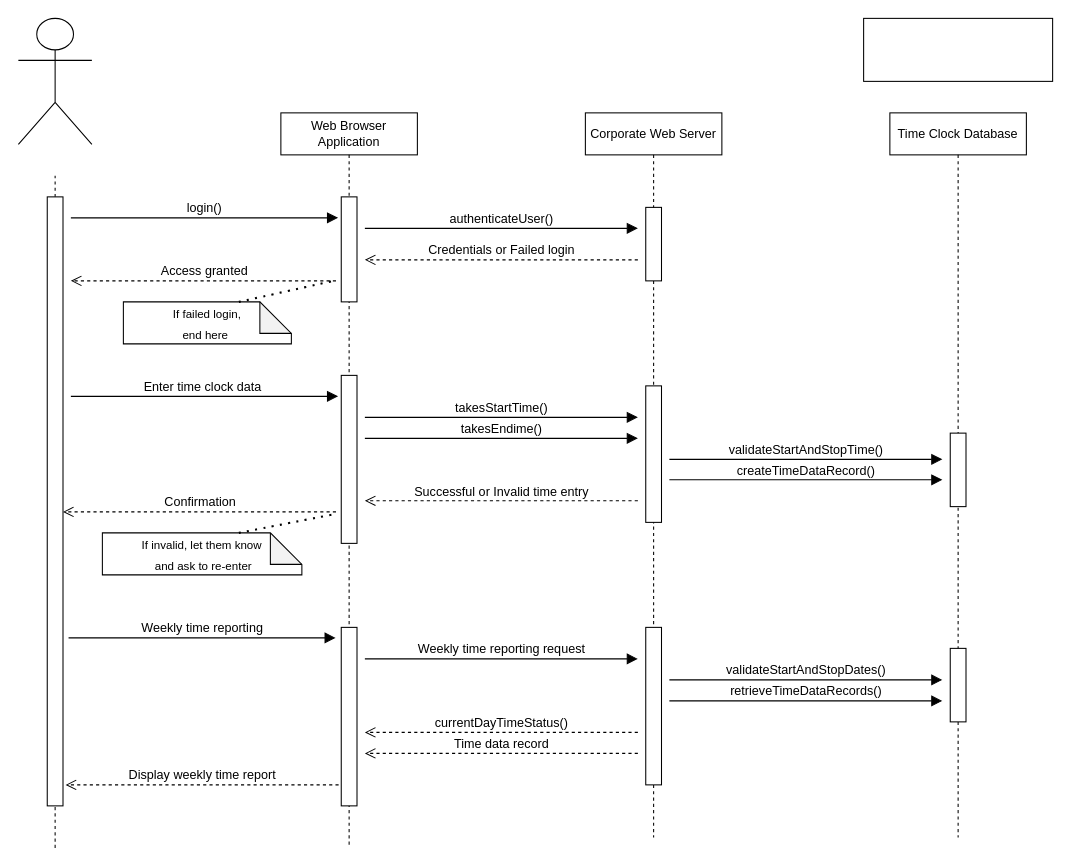
Some shapes in this 1071 by 867 pixel diagram are drawn without their labels. Each missing label, with the centre of its shape:
"Actor" belongs at (54,80).
"Name: Anna Zheng UCFID: 5124034" belongs at (958,49).
